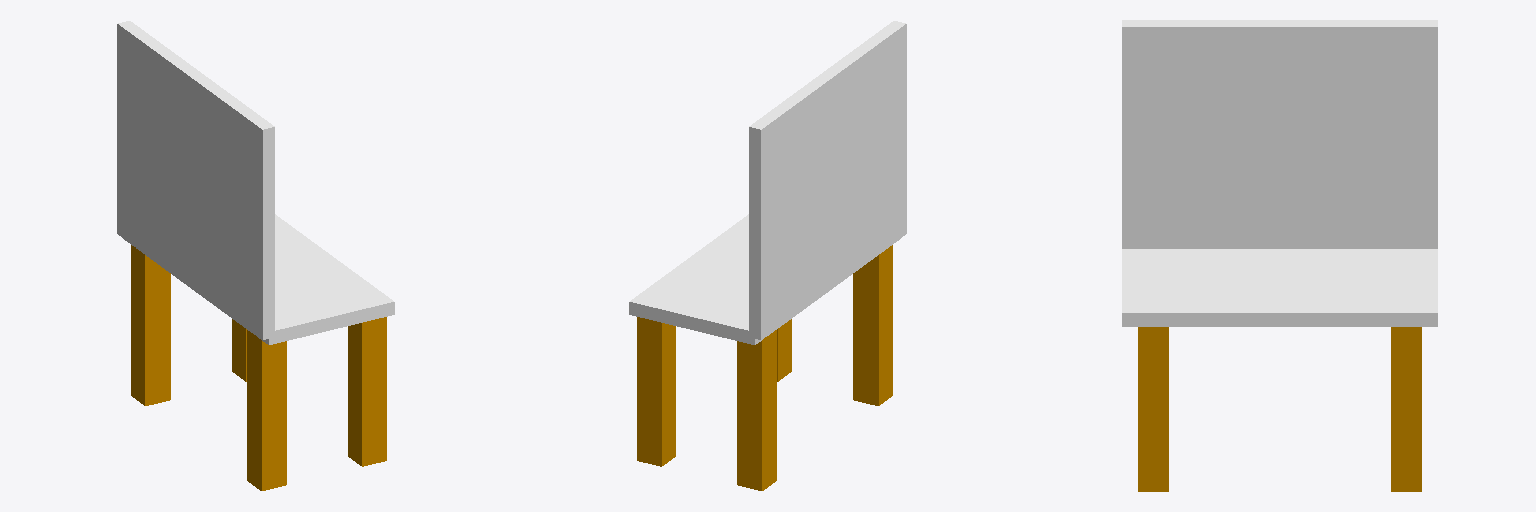
The robot description file, URDF, robot "chair":
<?xml version="0.0" ?>
<robot name="chair">
    <link name="base">
        <contact>
            <lateral_friction value="1.0"/>
        </contact>
        <inertial>
            <origin rpy="0 0 0" xyz="0 0 0"/>
            <mass value="15.0"/>
            <inertia ixx="1" ixy="0" ixz="0" iyy="1" iyz="0" izz="1"/>
        </inertial>
        <visual>
            <origin rpy="0 0 0" xyz="0 0 0.6"/>
            <geometry>
                <mesh filename="wood.obj" scale="0.5 1 0.05"/>
            </geometry>
            <material name="white">
                <color rgba="1 1 1 1"/>
            </material>
        </visual>
        <collision>
            <origin rpy="0 0 0" xyz="0 0 0.6"/>
            <geometry>
                <box size="0.5 1 0.05"/>
            </geometry>
        </collision>
        <visual>
            <origin rpy="0 0 0" xyz="-0.2 -0.4 0.29"/>
            <geometry>
                <mesh filename="wood.obj" scale="0.1 0.1 0.58"/>
            </geometry>
            <material name="framemat0"/>
        </visual>
        <collision>
            <origin rpy="0 0 0" xyz="-0.2 -0.4 0.29"/>
            <geometry>
                <box size="0.1 0.1 0.58"/>
            </geometry>
        </collision>
        <visual>
            <origin rpy="0 0 0" xyz="-0.2 0.4 0.29"/>
            <geometry>
                <mesh filename="wood.obj" scale="0.1 0.1 0.58"/>
            </geometry>
            <material name="framemat0"/>
        </visual>
        <collision>
            <origin rpy="0 0 0" xyz="-0.2 0.4 0.29"/>
            <geometry>
                <box size="0.1 0.1 0.58"/>
            </geometry>
        </collision>
        <visual>
            <origin rpy="0 0 0" xyz="0.2 -0.4 0.29"/>
            <geometry>
                <mesh filename="wood.obj" scale="0.1 0.1 0.58"/>
            </geometry>
            <material name="framemat0"/>
        </visual>
        <collision>
            <origin rpy="0 0 0" xyz="0.2 -0.4 0.29"/>
            <geometry>
                <box size="0.1 0.1 0.58"/>
            </geometry>
        </collision>
        <visual>
            <origin rpy="0 0 0" xyz="0.2 0.4 0.29"/>
            <geometry>
                <mesh filename="wood.obj" scale="0.1 0.1 0.58"/>
            </geometry>
        </visual>
        <collision>
            <origin rpy="0 0 0" xyz="0.2 0.4 0.29"/>
            <geometry>
                <box size="0.1 0.1 0.58"/>
            </geometry>
        </collision>
    </link>
    <link name="back">
        <contact>
            <lateral_friction value="1.0"/>
        </contact>
        <inertial>
            <origin rpy="0 0 0" xyz="0 0 0.4"/>
            <mass value="2.0"/>
            <inertia ixx="1" ixy="0" ixz="0" iyy="1" iyz="0" izz="1"/>
        </inertial>
        <visual>
            <origin rpy="0 0 0" xyz="0 0 0.4"/>
            <geometry>
                <mesh filename="wood.obj" scale="0.05 1 0.8"/>
            </geometry>
            <material name="white">
                <color rgba="1 1 1 1"/>
            </material>
        </visual>
        <collision>
            <origin rpy="0 0 0" xyz="0 0 0.4"/>
            <geometry>
                <box size="0.05 1 0.8"/>
            </geometry>
        </collision>
    </link>
    <joint name="back" type="revolute">
        <origin rpy="0 0 0" xyz="-0.25 0 0.6"/>
        <axis xyz="0 1 0"/>
        <parent link="base"/>
        <child link="back"/>
        <limit effort="0" lower="-1.57" upper="0"/>
    </joint>
</robot>

--- What the picture shows (computed from the rendered views, not written in the file) ---
The picture shows the robot from 3 angles, left to right: view 1: azimuth 30°, elevation 25°; view 2: azimuth 150°, elevation 25°; view 3: azimuth 270°, elevation 25°; orthographic projection.
Robot: chair — 2 links, 1 joints (1 revolute); root link base; default pose: all joints at 0.
Links seen in each view (by area): view 1: back, base; view 2: back, base; view 3: back, base.
Link boxes in pixels (left/top/right/bottom): back: left=117, top=21, right=274, bottom=339; base: left=124, top=214, right=394, bottom=490; back: left=749, top=21, right=906, bottom=339; base: left=629, top=214, right=899, bottom=490; back: left=1122, top=20, right=1437, bottom=248; base: left=1122, top=249, right=1437, bottom=491.
Bounding box of the posed robot: 0.525 × 1 × 1.4 m (x, y, z).
Meshes: 1 distinct files referenced, 6 mesh visuals loaded (1 OBJ).